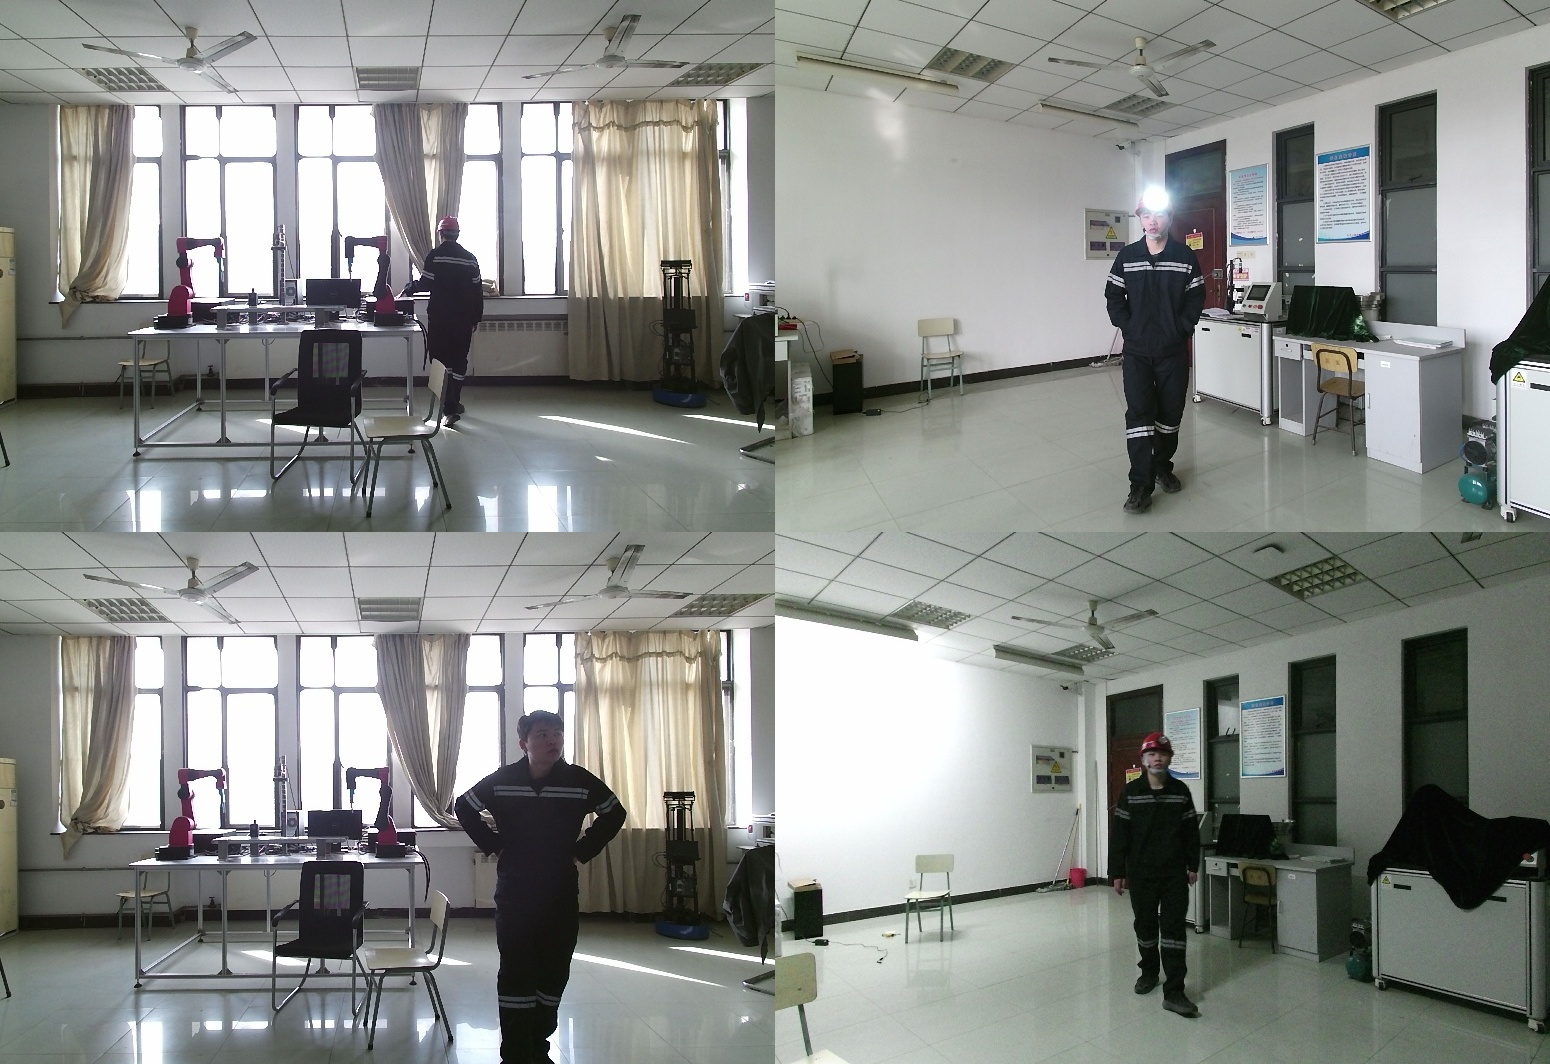person: (459, 715, 639, 1063), (1097, 191, 1219, 513), (1106, 734, 1208, 1017), (400, 216, 488, 426)
